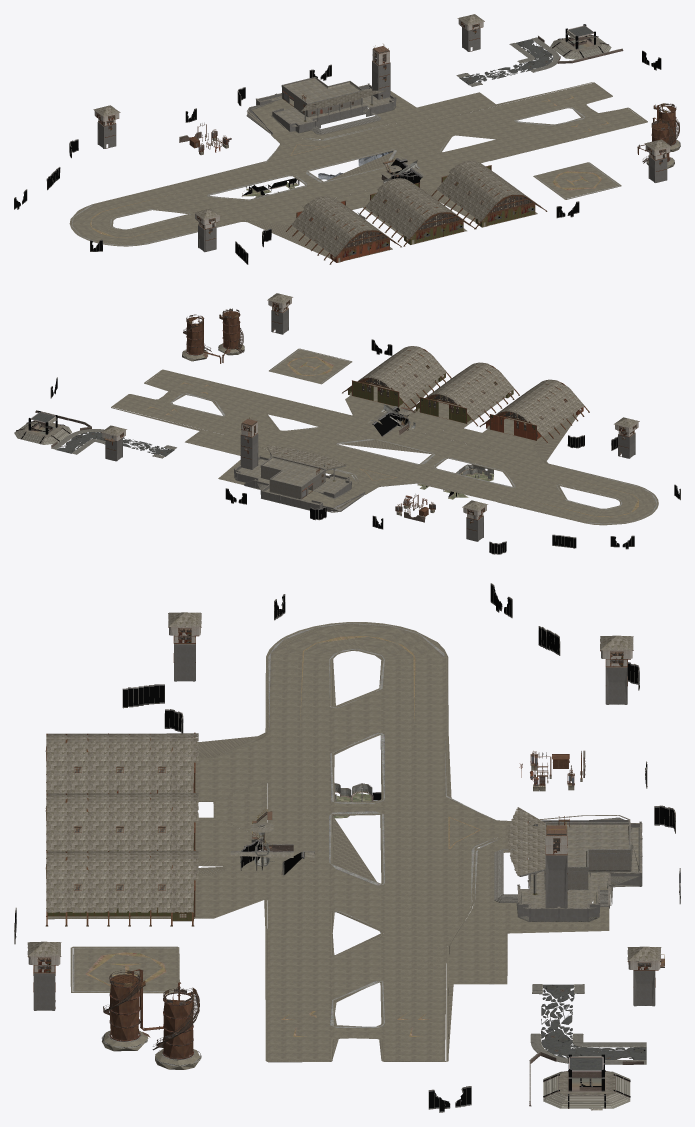
The model's file is airfield_1-map.glb.
3 views of the same model, one above another, from view 1: azimuth 30°, elevation 25°; view 2: azimuth 150°, elevation 25°; view 3: azimuth 270°, elevation 25° (orthographic). The views are drawn at different scales.
Parts seen in each view (by area): view 1: spheretank_storage_tank_LOD0, watch_tower_b_LOD0, road_9x15_end_LOD0, office_bld_base_a_LOD0, substation_b_LOD0, perimeter_wall_corner_LOD0, hangar_airfield_LOD0 (×2), wall_300x300_LOD0, office_bld_a_ext_LOD0, substation_d_LOD0; view 2: spheretank_storage_tank_LOD0, watch_tower_b_LOD0, road_9x15_end_LOD0, office_bld_base_a_LOD0, perimeter_wall_corner_LOD0, substation_b_LOD0, hangar_airfield_LOD0 (×2), substation_d_LOD0, office_bld_a_ext_LOD0, wall_300x300_LOD0, bunker.room.21.ab_LOD0; view 3: spheretank_storage_tank_LOD0, watch_tower_b_LOD0, road_9x15_end_LOD0, office_bld_base_a_LOD0, perimeter_wall_corner_LOD0, substation_d_LOD0, substation_b_LOD0, wall_300x300_LOD0, office_bld_a_ext_LOD0, corridor_train_tunnel_entrance_b_LOD0, hangar_airfield_LOD0.
Boxes of the visible parts, x1,y1,x2,y2 form: spheretank_storage_tank_LOD0: [69, 82, 680, 262]; watch_tower_b_LOD0: [14, 14, 680, 264]; road_9x15_end_LOD0: [71, 26, 619, 245]; office_bld_base_a_LOD0: [247, 78, 425, 176]; substation_b_LOD0: [96, 18, 671, 264]; perimeter_wall_corner_LOD0: [14, 24, 661, 264]; hangar_airfield_LOD0 (×2): [297, 166, 534, 262]; wall_300x300_LOD0: [179, 35, 623, 180]; office_bld_a_ext_LOD0: [282, 77, 362, 116]; substation_d_LOD0: [189, 105, 675, 160]; spheretank_storage_tank_LOD0: [111, 308, 658, 525]; watch_tower_b_LOD0: [50, 293, 680, 554]; road_9x15_end_LOD0: [14, 349, 656, 523]; office_bld_base_a_LOD0: [234, 406, 412, 511]; perimeter_wall_corner_LOD0: [16, 339, 680, 554]; substation_b_LOD0: [101, 300, 639, 531]; hangar_airfield_LOD0 (×2): [348, 365, 583, 440]; substation_d_LOD0: [186, 311, 428, 516]; office_bld_a_ext_LOD0: [261, 456, 325, 499]; wall_300x300_LOD0: [16, 410, 425, 522]; bunker.room.21.ab_LOD0: [381, 404, 493, 479]; spheretank_storage_tank_LOD0: [47, 622, 609, 1069]; watch_tower_b_LOD0: [14, 583, 680, 1112]; road_9x15_end_LOD0: [73, 623, 646, 1109]; office_bld_base_a_LOD0: [230, 820, 642, 921]; perimeter_wall_corner_LOD0: [14, 583, 680, 1112]; substation_d_LOD0: [110, 754, 569, 1058]; substation_b_LOD0: [27, 613, 661, 1008]; wall_300x300_LOD0: [263, 750, 643, 1108]; office_bld_a_ext_LOD0: [545, 823, 630, 889]; corridor_train_tunnel_entrance_b_LOD0: [558, 1056, 615, 1110]; hangar_airfield_LOD0: [46, 806, 193, 920].
Size of the model in its own units: 343 by 46.37 by 190.
57 materials, 57 textured.
